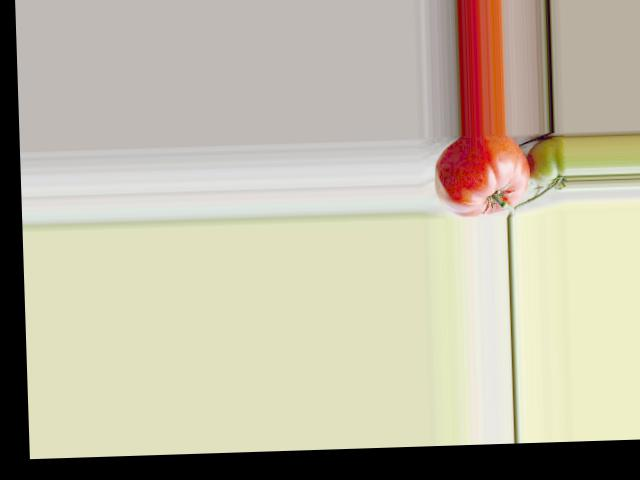tomato: (432, 132, 530, 218)
